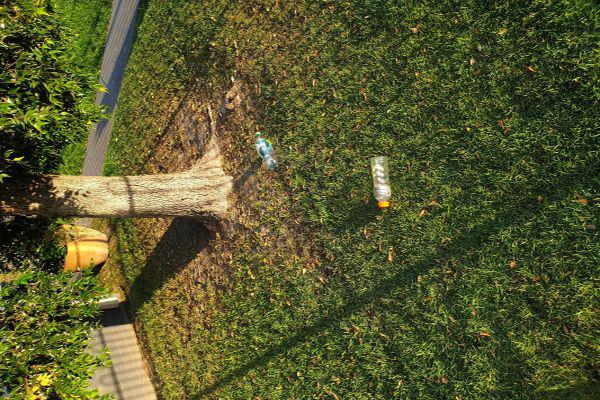Plastic Bottle: (370, 155, 392, 208), (254, 131, 279, 171)
